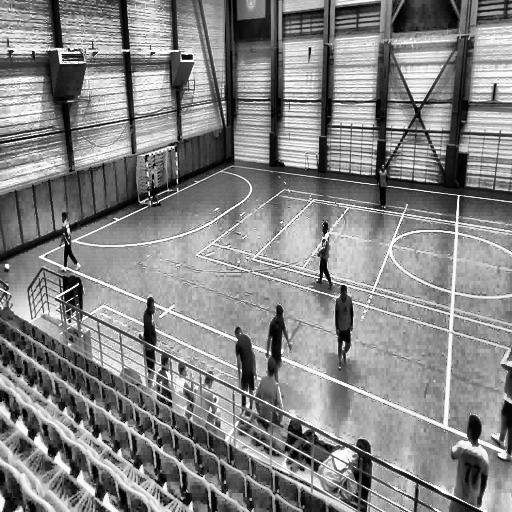ball: (3, 260, 11, 276)
player: (449, 414, 488, 512), (266, 304, 291, 395), (234, 323, 258, 412), (335, 284, 354, 370), (141, 297, 158, 386), (316, 221, 334, 289), (61, 210, 79, 271), (377, 164, 388, 209), (150, 162, 160, 209)
